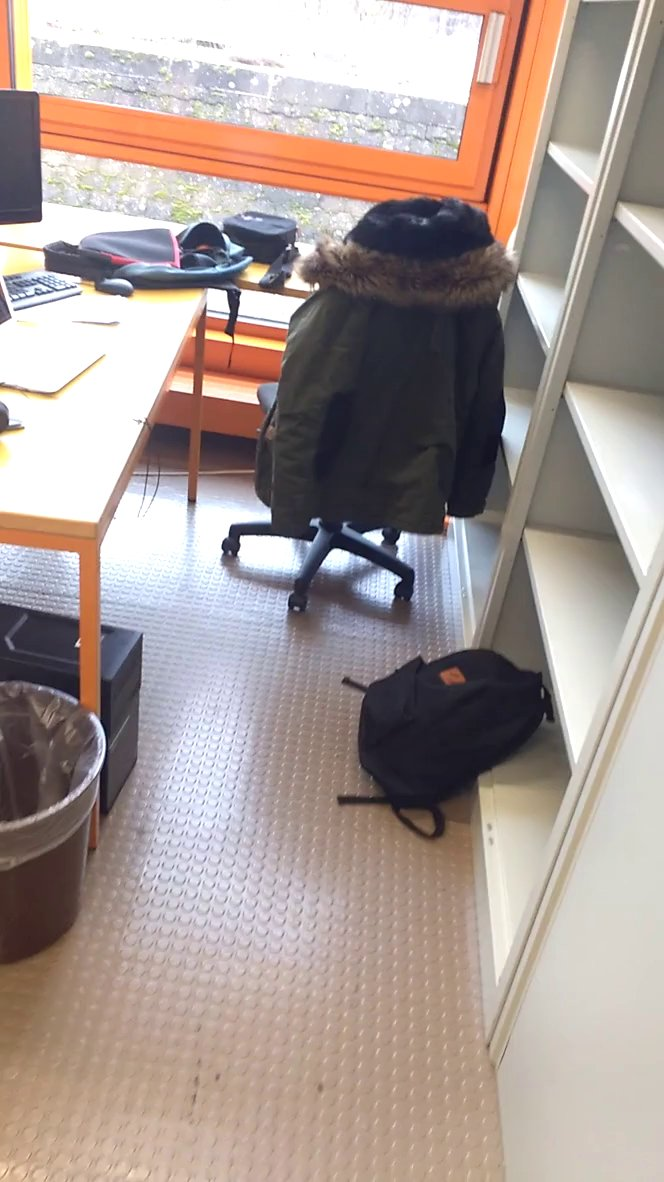bag: (331, 644, 566, 848)
